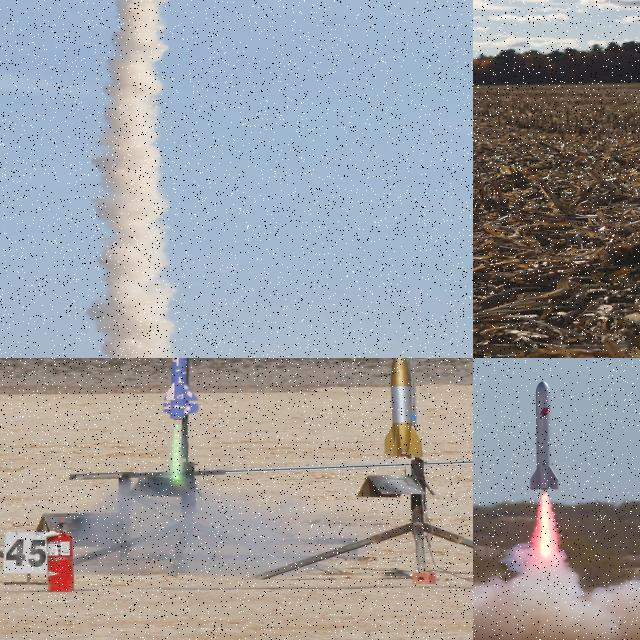Rocket: (524, 372, 564, 494), (380, 358, 423, 461), (160, 358, 199, 424)
